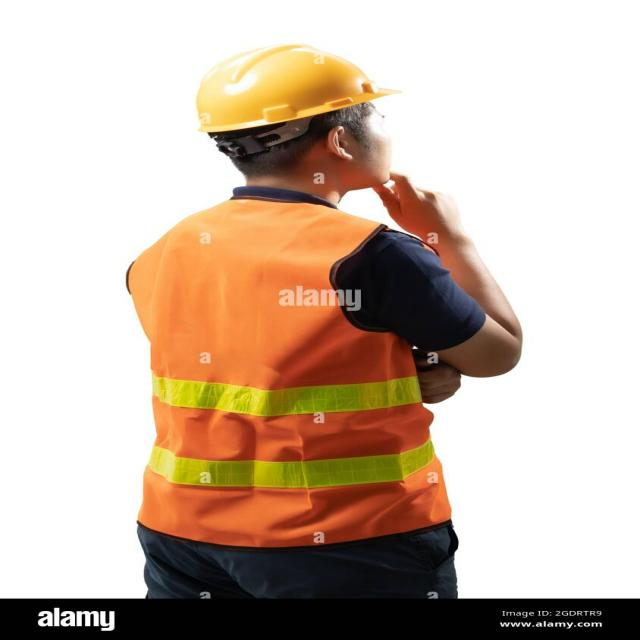Reflective-Jacket: (121, 197, 455, 545)
Safety-Helmet: (184, 40, 400, 136)
